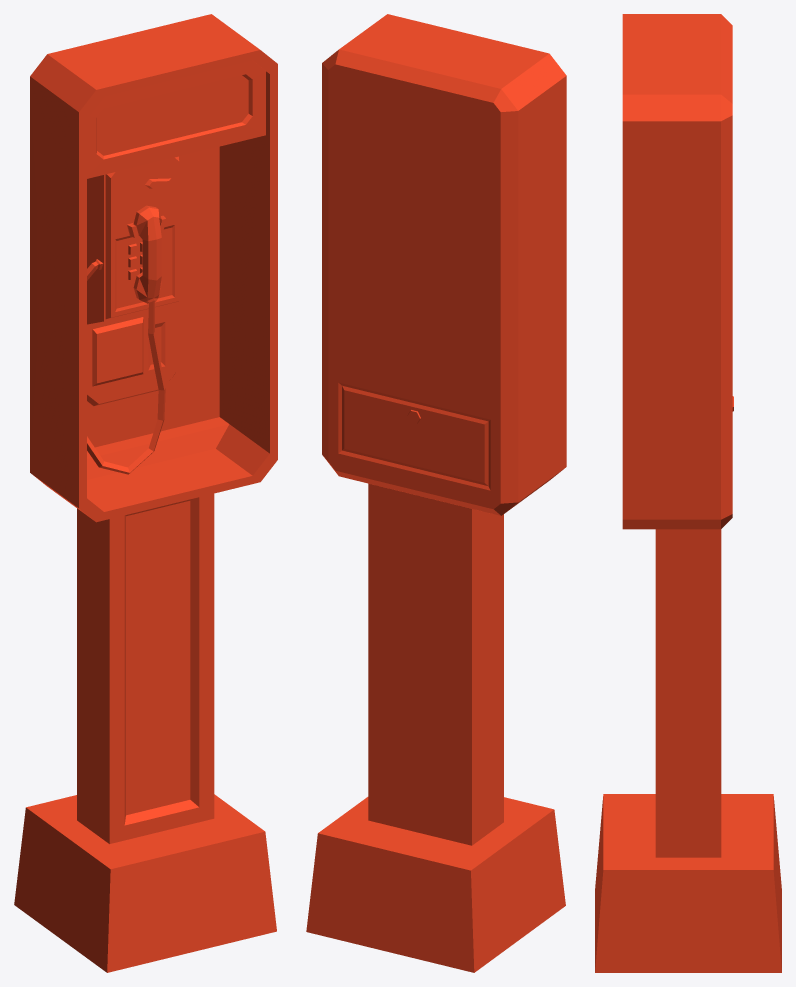
File: SM_Telephone_City.fbx
3 renders of one model, left to right at view 1: azimuth 30°, elevation 25°; view 2: azimuth 150°, elevation 25°; view 3: azimuth 270°, elevation 25°, orthographic.
Visible parts, largest first — view 1: SM_Telephone_City; view 2: SM_Telephone_City; view 3: SM_Telephone_City.
Boxes of the visible parts, <box> form: SM_Telephone_City: <box>14,14,277,972</box>; SM_Telephone_City: <box>306,14,566,972</box>; SM_Telephone_City: <box>595,14,781,972</box>.
Bounding box in the file's own units: 0.5007 × 2.1 × 0.4055.
